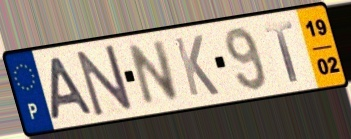9: (222, 25, 270, 93)
A: (47, 55, 96, 123)
K: (171, 33, 222, 99)
N: (73, 42, 136, 119), (127, 37, 182, 109)
T: (262, 19, 301, 84)
